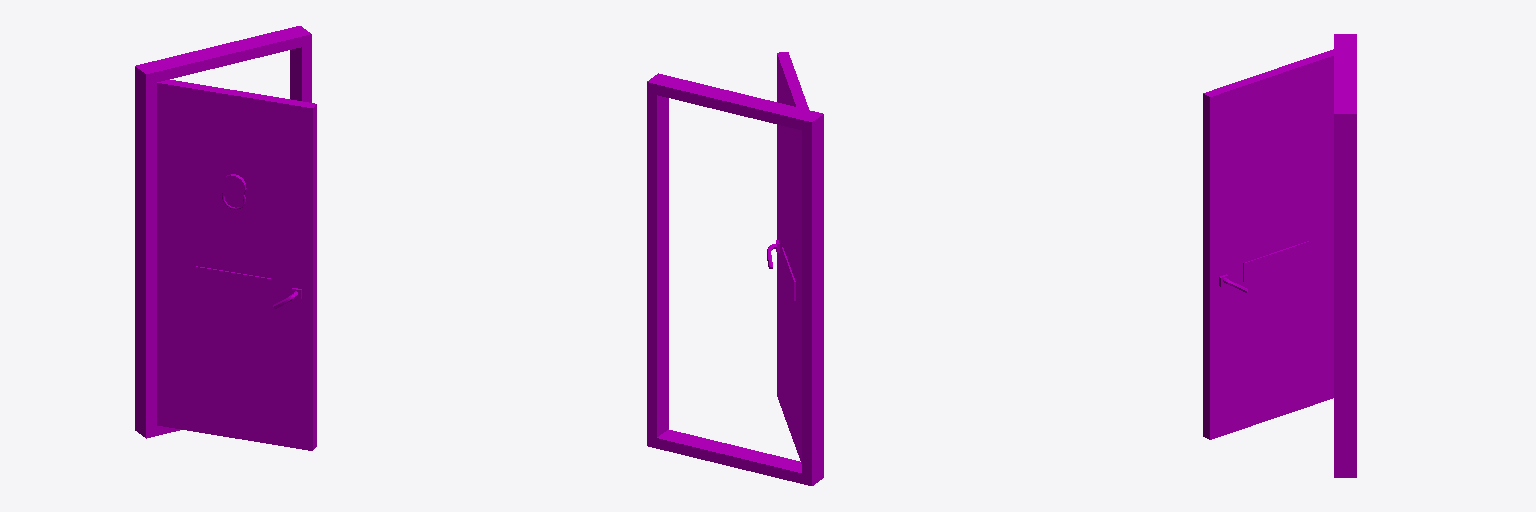
File: door2.obj
3 renders of one model, left to right at view 1: azimuth 30°, elevation 25°; view 2: azimuth 150°, elevation 25°; view 3: azimuth 270°, elevation 25°, orthographic.
Visible parts, largest first — view 1: Doors_(2); view 2: Doors_(2); view 3: Doors_(2).
Boxes of the visible parts, x1,y1,x2,y2 form: Doors_(2): [135, 26, 316, 450]; Doors_(2): [647, 52, 823, 485]; Doors_(2): [1203, 34, 1356, 477].
Size of the model in its own units: 3.49 by 7.33 by 2.82.